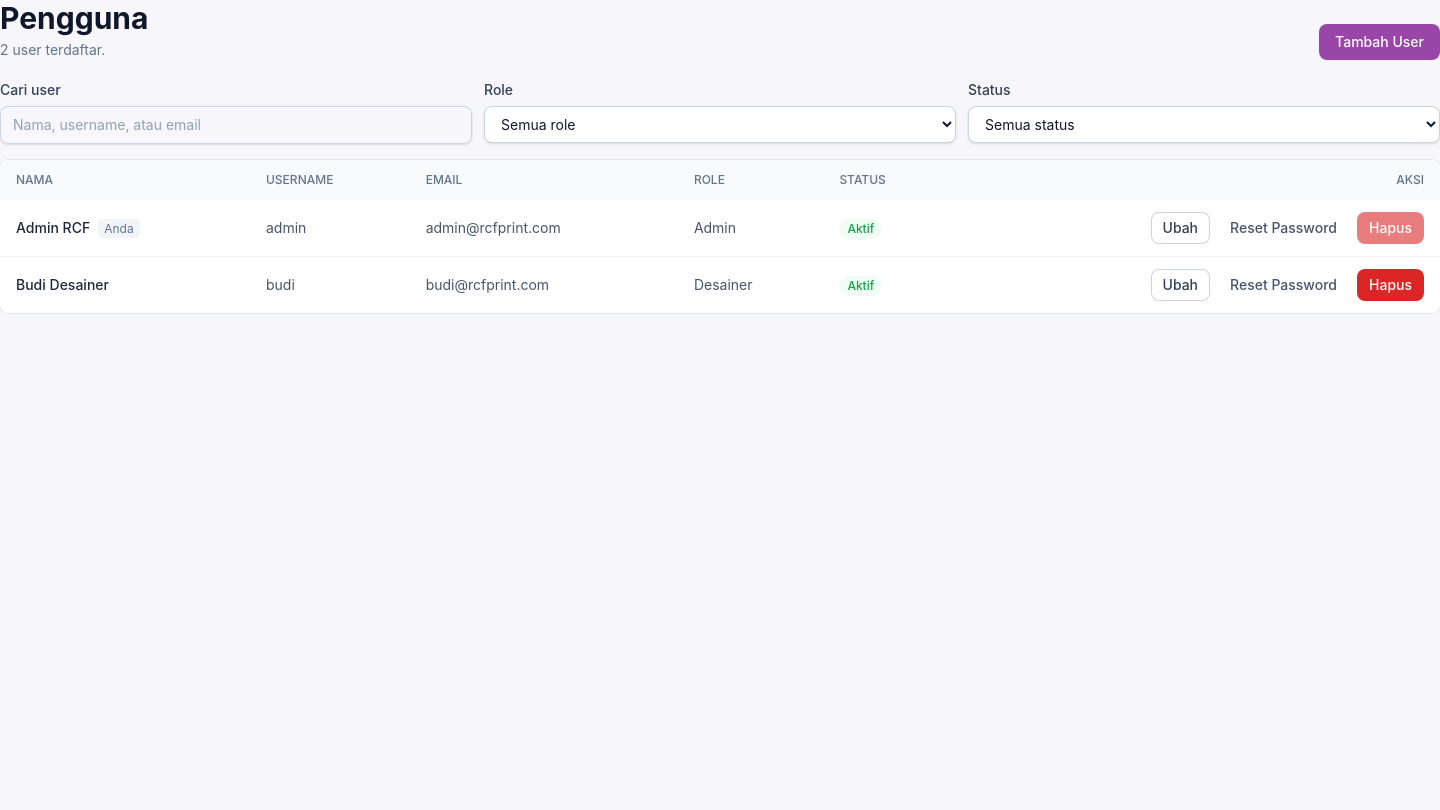
UserListPage — reset password › mengirim id dan password baru lalu menampilkan pesan sukses
Expected: the text "Budi Desainer" is shown, 0,256 -> 250,313
Click the button with aria-label "reset password budi desainer" at coordinates (1284, 285), box 1218,269 -> 1349,301
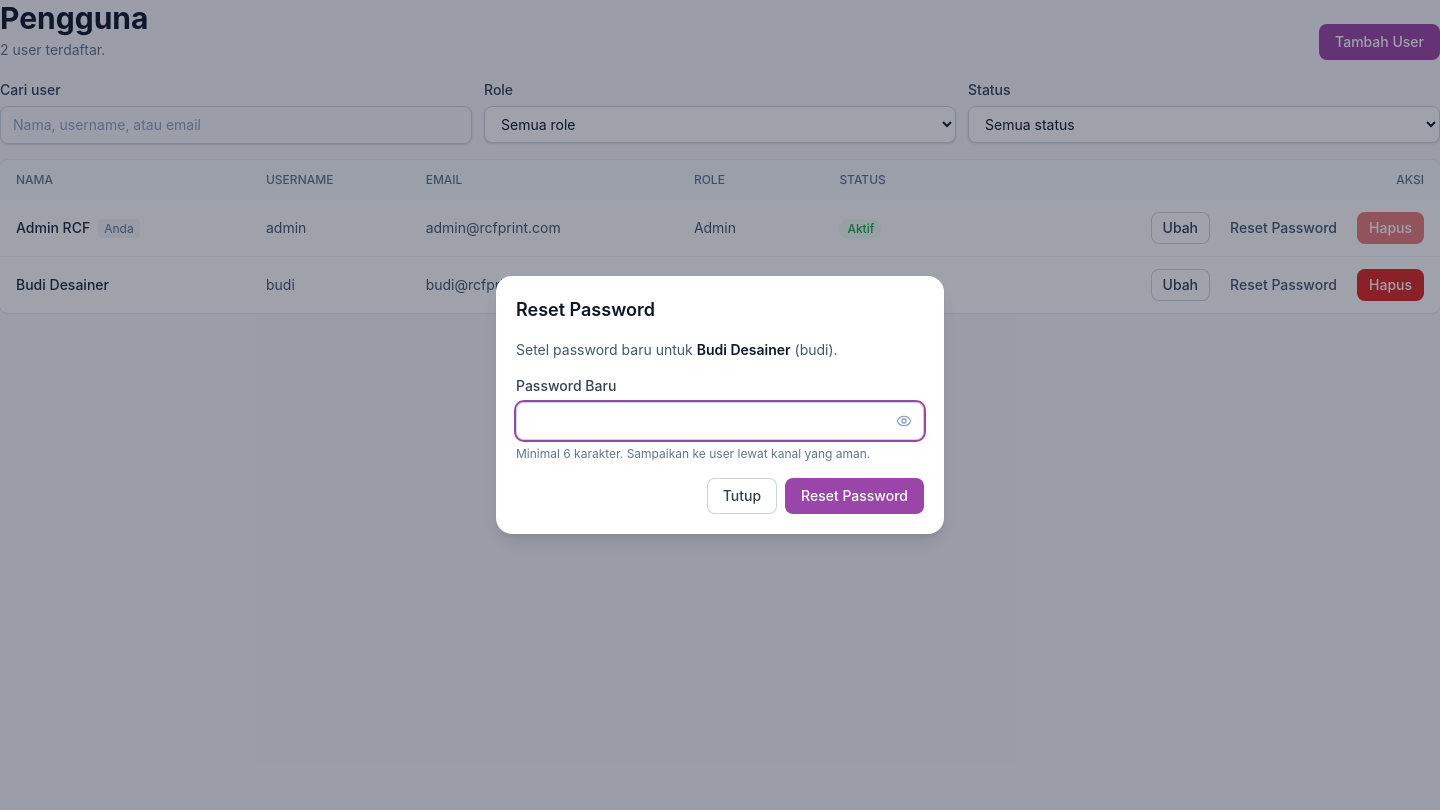
Expected: the password field labelled "Password Baru" is shown
Type "passwordbaru123" into the password field labelled "Password Baru" at coordinates (720, 421), box 516,402 -> 924,440
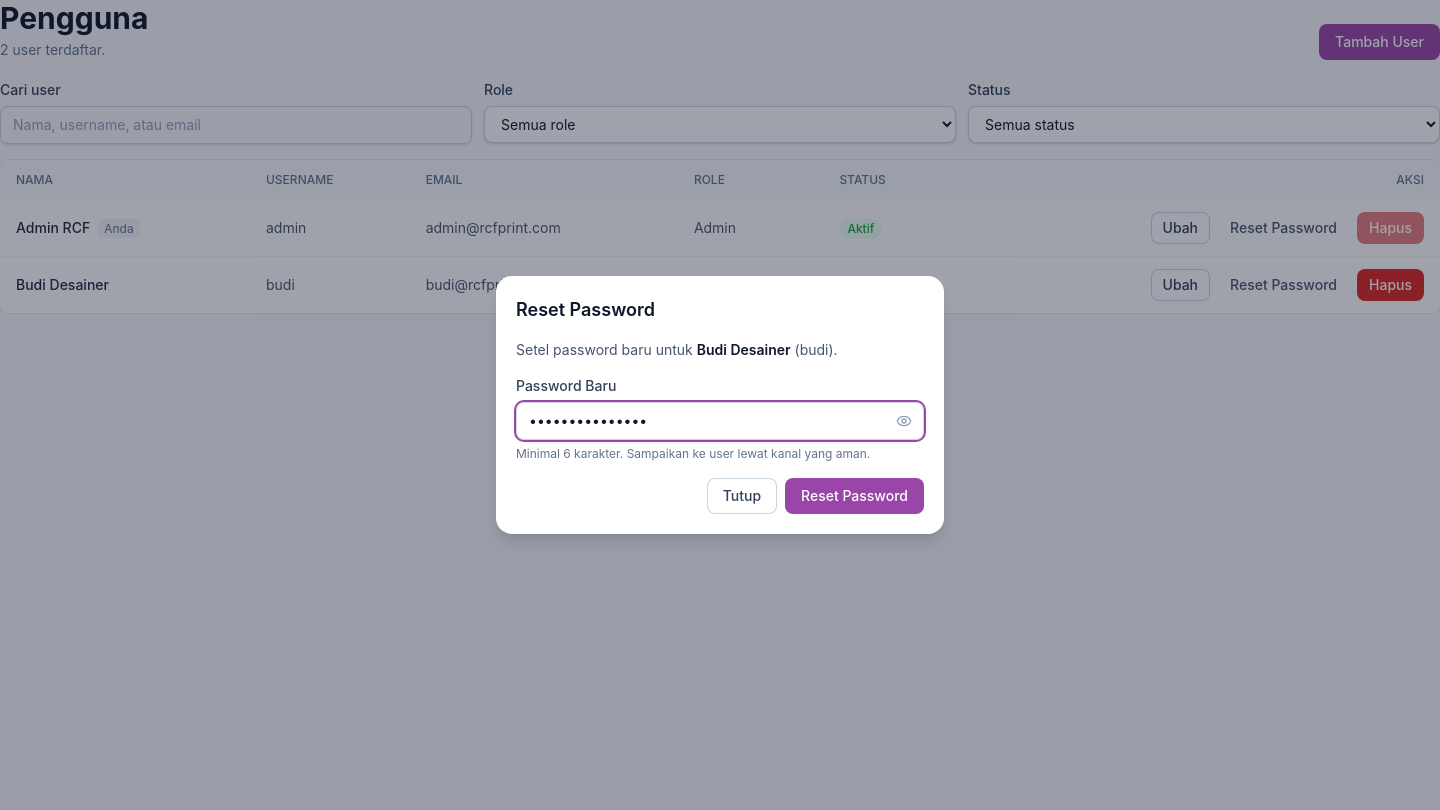
Click the button "Reset Password" at coordinates (854, 496), box 785,478 -> 924,514
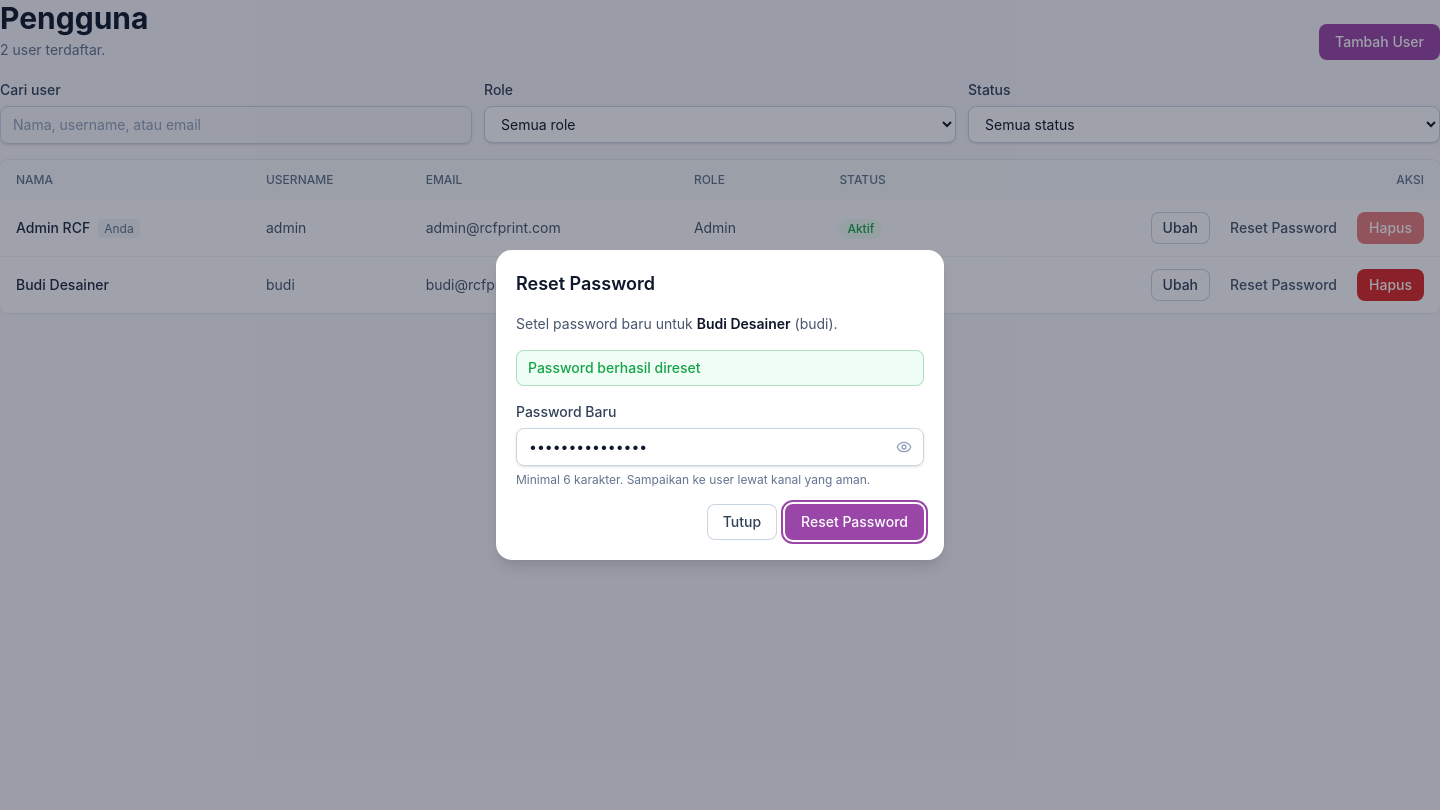
Expected: the text "Password berhasil direset" is shown, 528,359 -> 701,376
